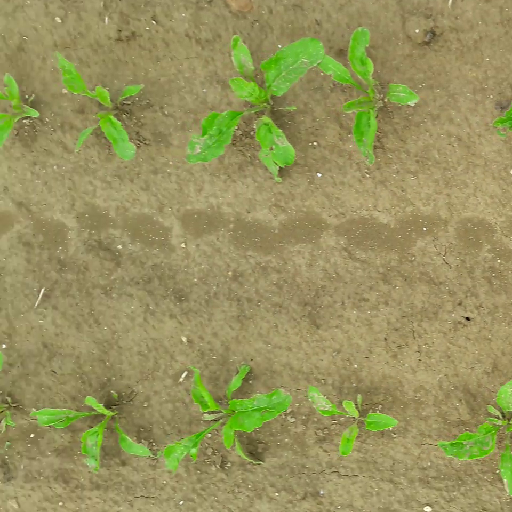sugarbeet: (184, 33, 326, 180), (315, 24, 423, 169), (159, 365, 295, 471), (50, 48, 151, 167), (29, 391, 158, 476), (431, 372, 512, 495), (306, 384, 400, 456), (2, 67, 44, 154)
